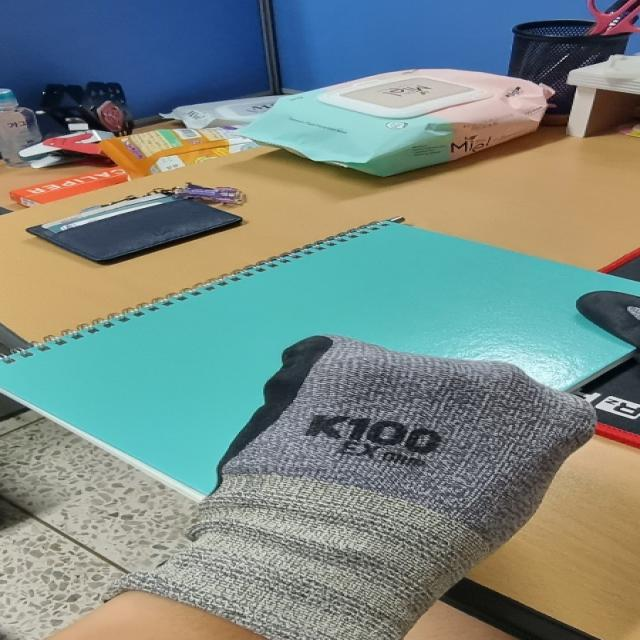Gloves: (166, 334, 595, 640)
